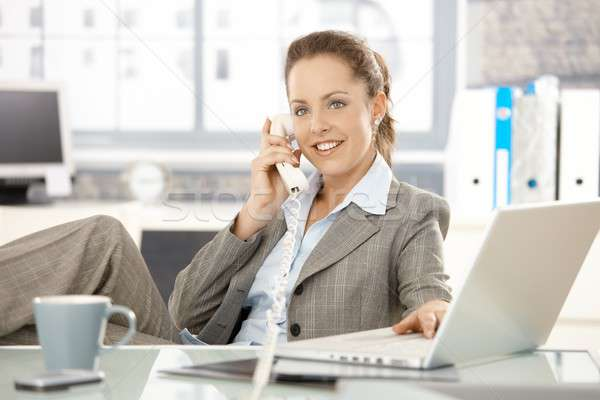phone: (258, 115, 310, 199)
talk: (246, 74, 368, 225)
